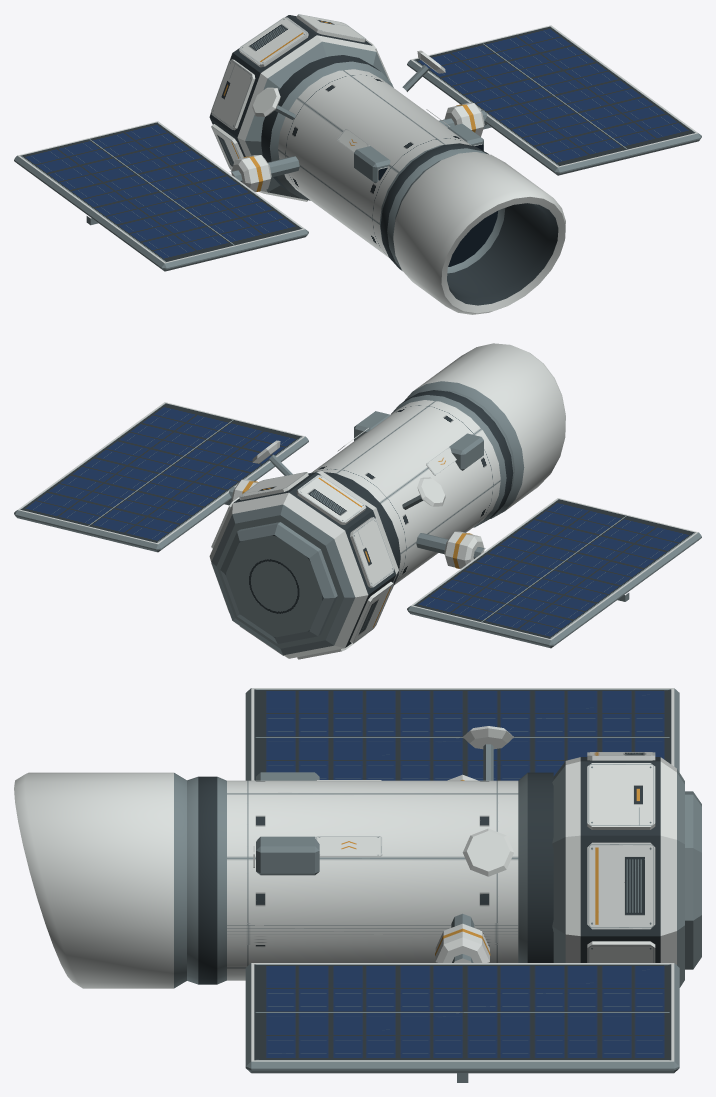
The model's file is Hubble_Telescope.glb.
The picture shows the model from 3 angles, top to bottom: view 1: azimuth 30°, elevation 25°; view 2: azimuth 150°, elevation 25°; view 3: azimuth 270°, elevation 25°; orthographic projection. The views are drawn at different scales.
Visible parts, largest first — view 1: Telescope_Body, Solar_Panel_L, Solar_Panel_R; view 2: Telescope_Body, Solar_Panel_L, Solar_Panel_R; view 3: Telescope_Body, Solar_Panel_R, Solar_Panel_L.
Boxes of the visible parts, x1,y1,x2,y2 form: Telescope_Body: [209, 14, 565, 314]; Solar_Panel_L: [14, 121, 308, 271]; Solar_Panel_R: [407, 25, 701, 175]; Telescope_Body: [209, 343, 565, 659]; Solar_Panel_L: [407, 498, 701, 648]; Solar_Panel_R: [14, 402, 308, 552]; Telescope_Body: [14, 726, 701, 988]; Solar_Panel_R: [245, 963, 679, 1082]; Solar_Panel_L: [245, 688, 679, 780].
Size of the model in its own units: 6.6 by 1.97 by 5.08.
1 material, 1 textured.
